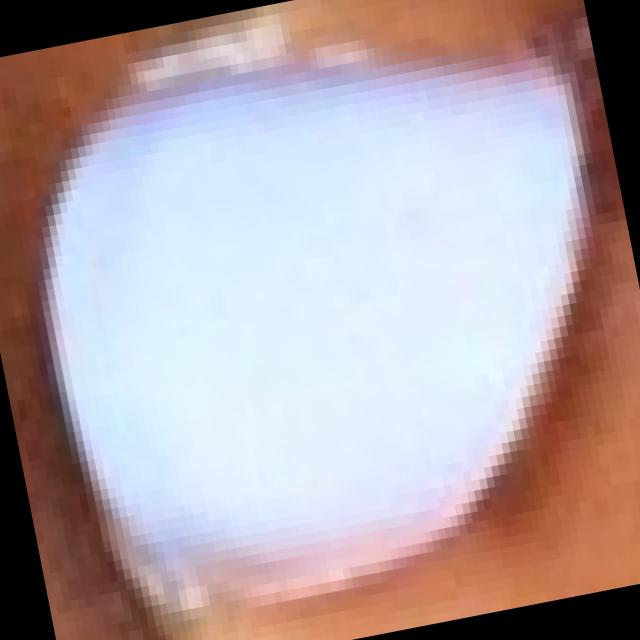Nail: (44, 57, 583, 603)
